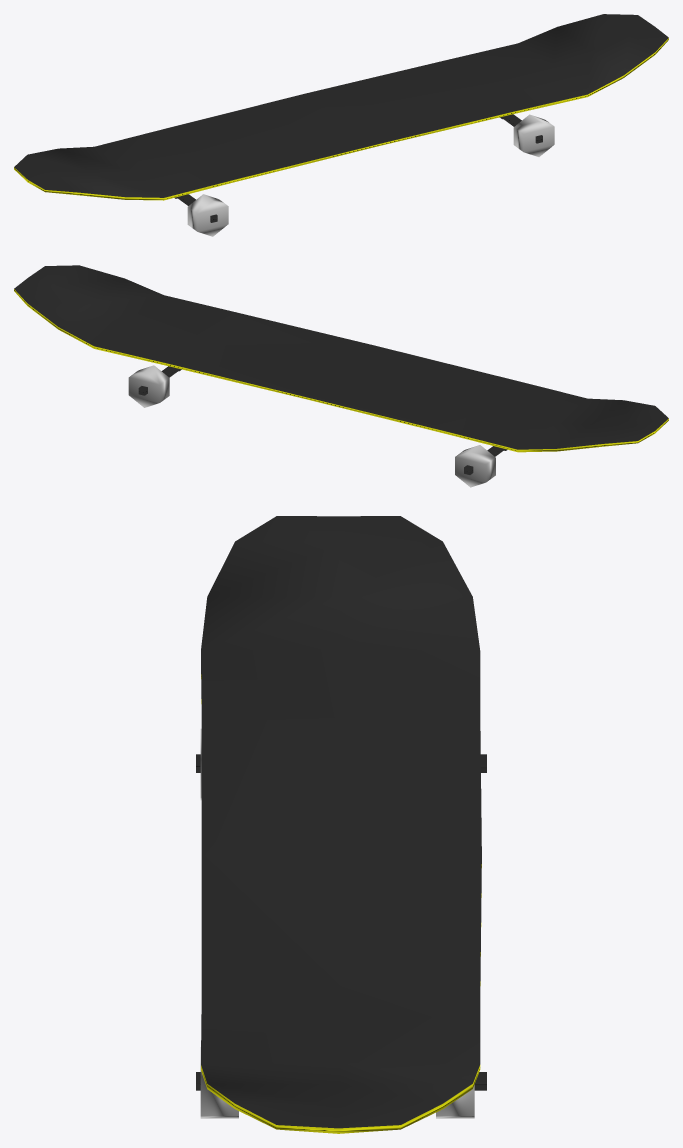
File: skate.fbx
3 renders of one model, top to bottom at view 1: azimuth 30°, elevation 25°; view 2: azimuth 150°, elevation 25°; view 3: azimuth 270°, elevation 25°, orthographic. The views are drawn at different scales.
Visible parts, largest first — view 1: Cube; view 2: Cube; view 3: Cube.
Part boxes in pixels (bbox=[...]): Cube: bbox=[14, 14, 668, 236]; Cube: bbox=[14, 265, 668, 487]; Cube: bbox=[196, 516, 486, 1133].
Bounding box in the file's own units: 7.91 × 0.8362 × 1.59.
